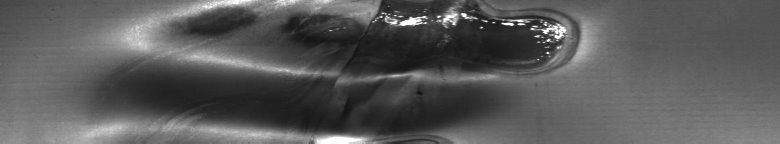ke: (112, 4, 588, 136)
